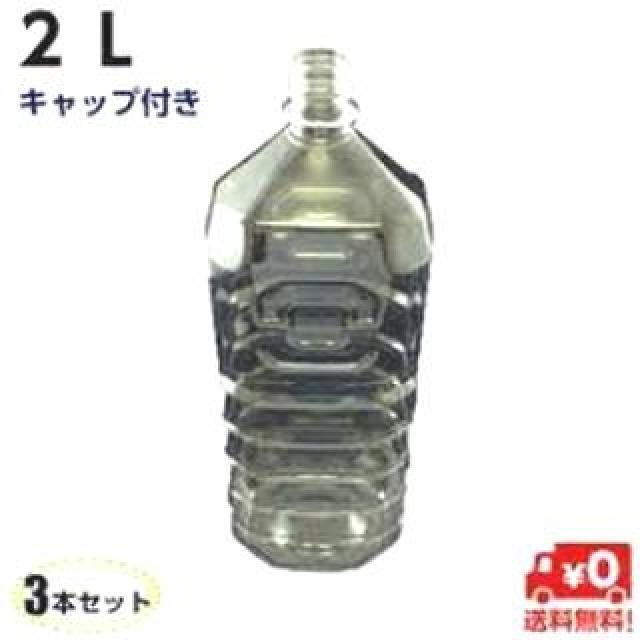Pet_Bottle: (204, 46, 436, 576)
